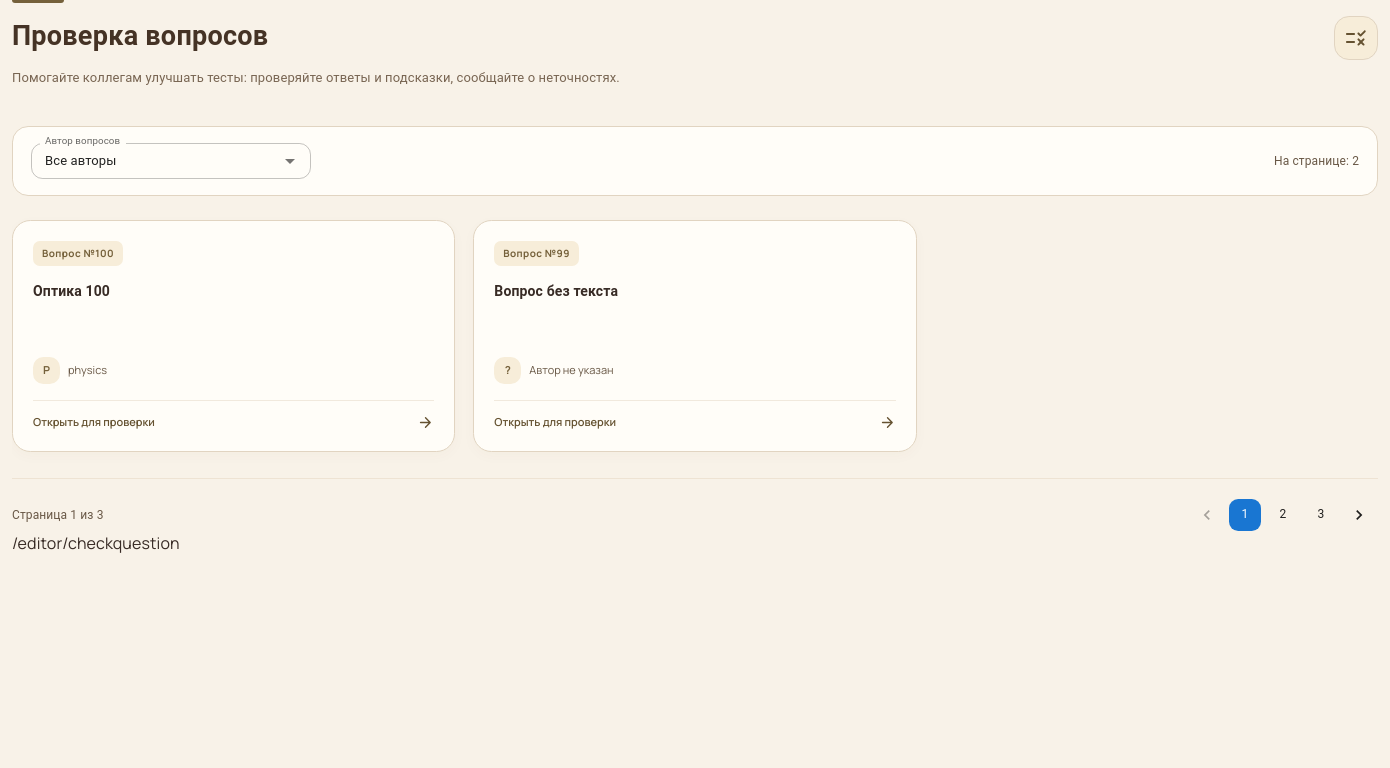
each mounted page owns its filters instead of retaining a global selector state
Click the button named "Go to page 2" at (1283, 515), box [1267,499,1299,531]
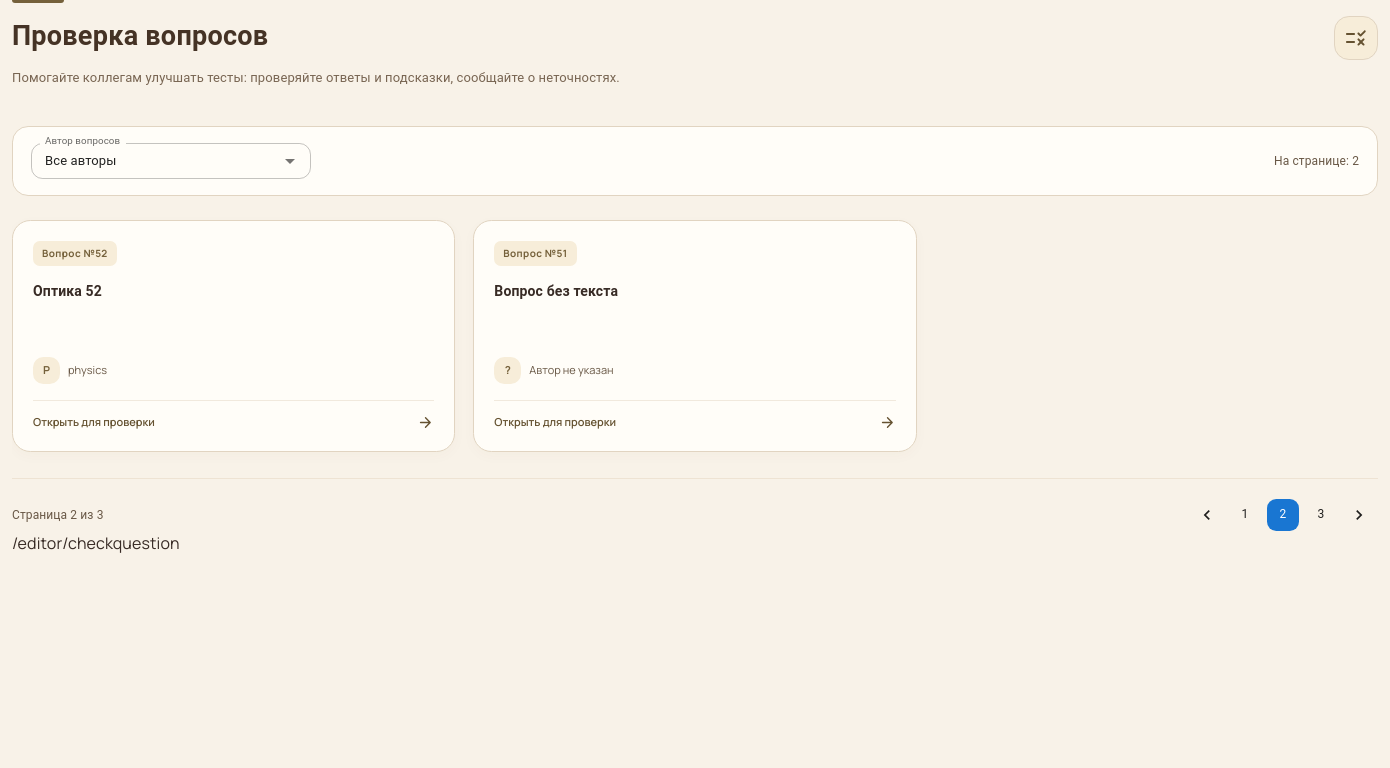
Click the button named "Выбрать автора" at (290, 161), box [276,147,304,175]
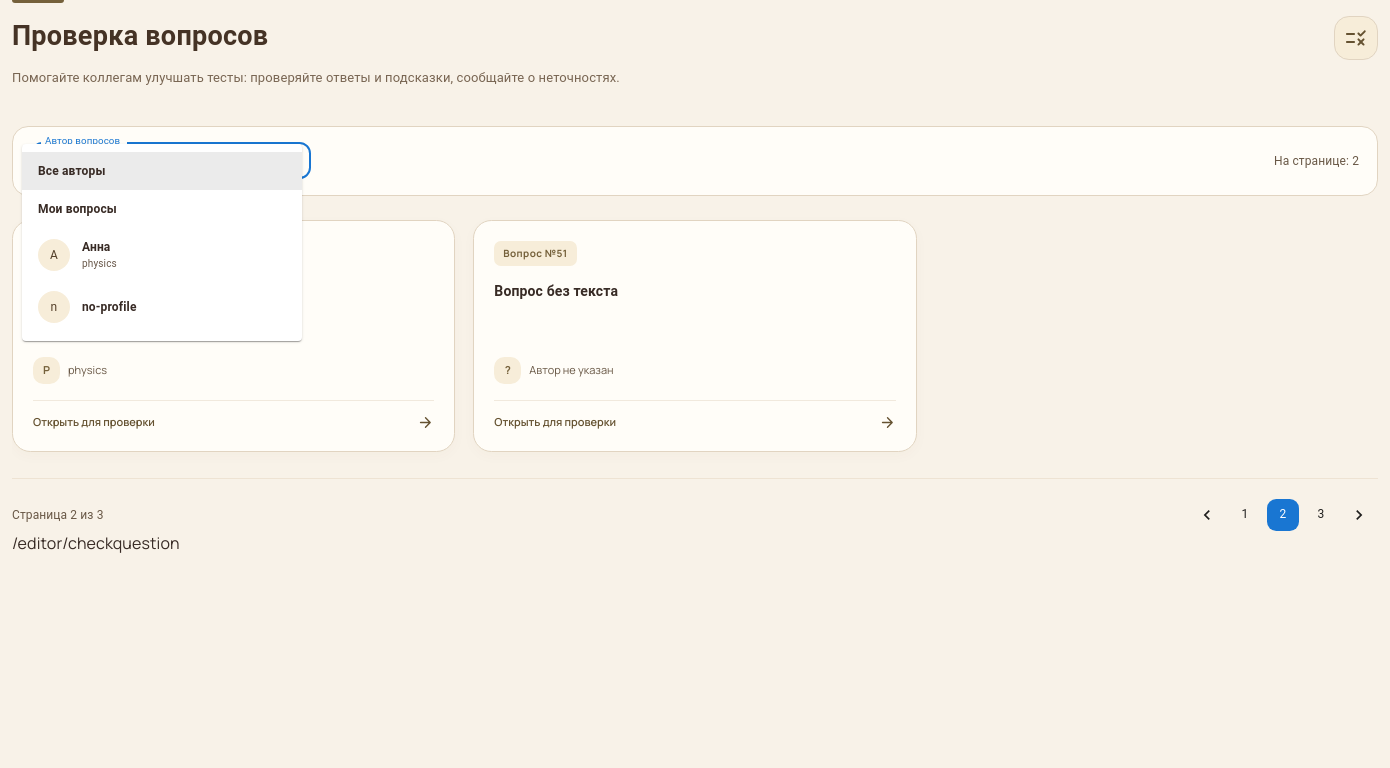
Click the option "А Анна physics" at (54, 254), box [38,238,117,270]
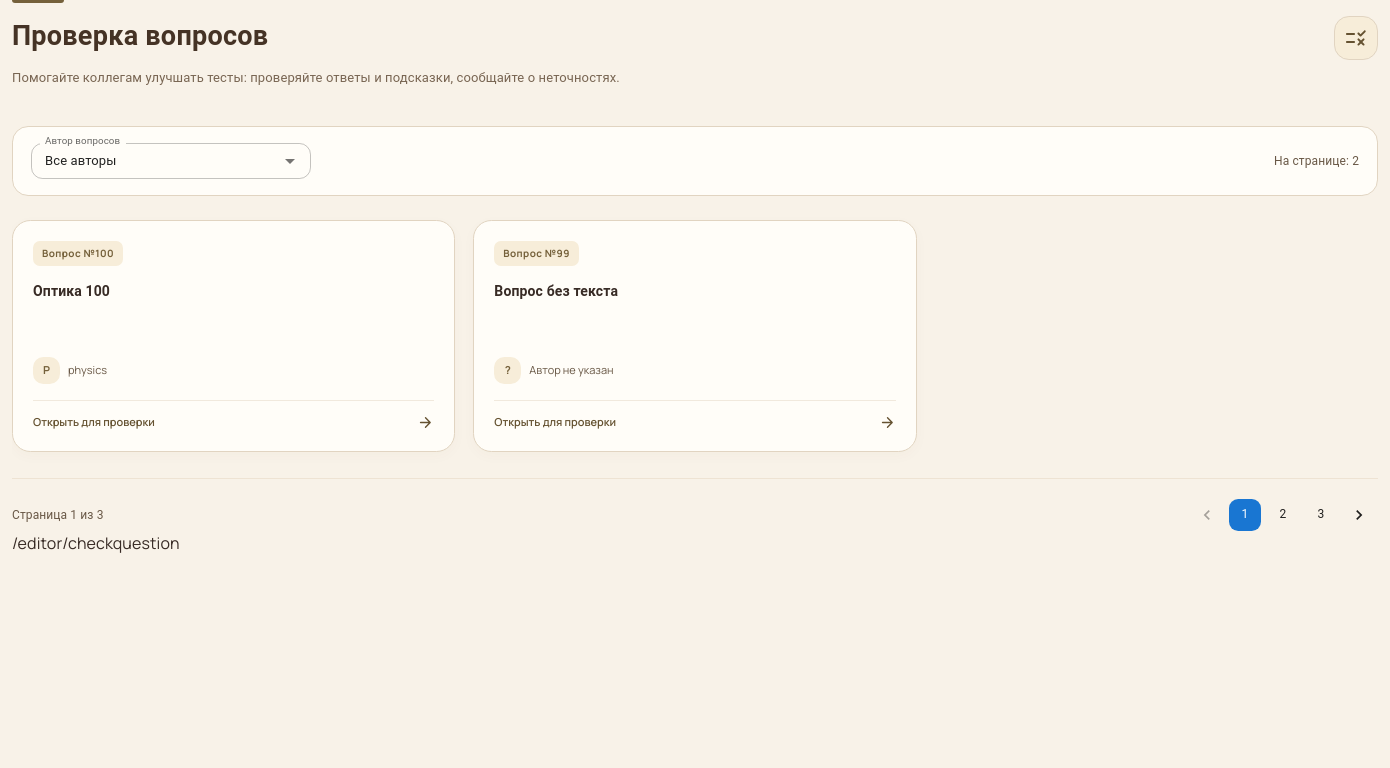
Result: the dropdown labelled "Автор вопросов" holds "Все авторы" at [37,149,246,173]
